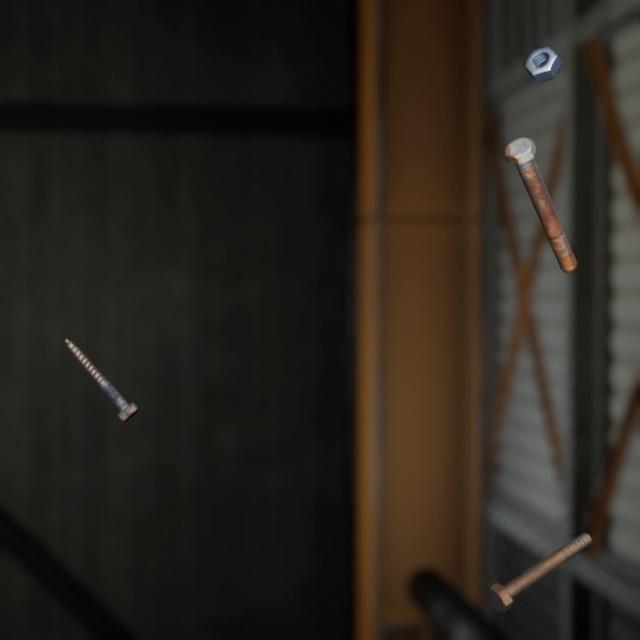bolt: (500, 117, 581, 262), (482, 506, 596, 594), (60, 315, 143, 408)
nut: (519, 31, 567, 76)
